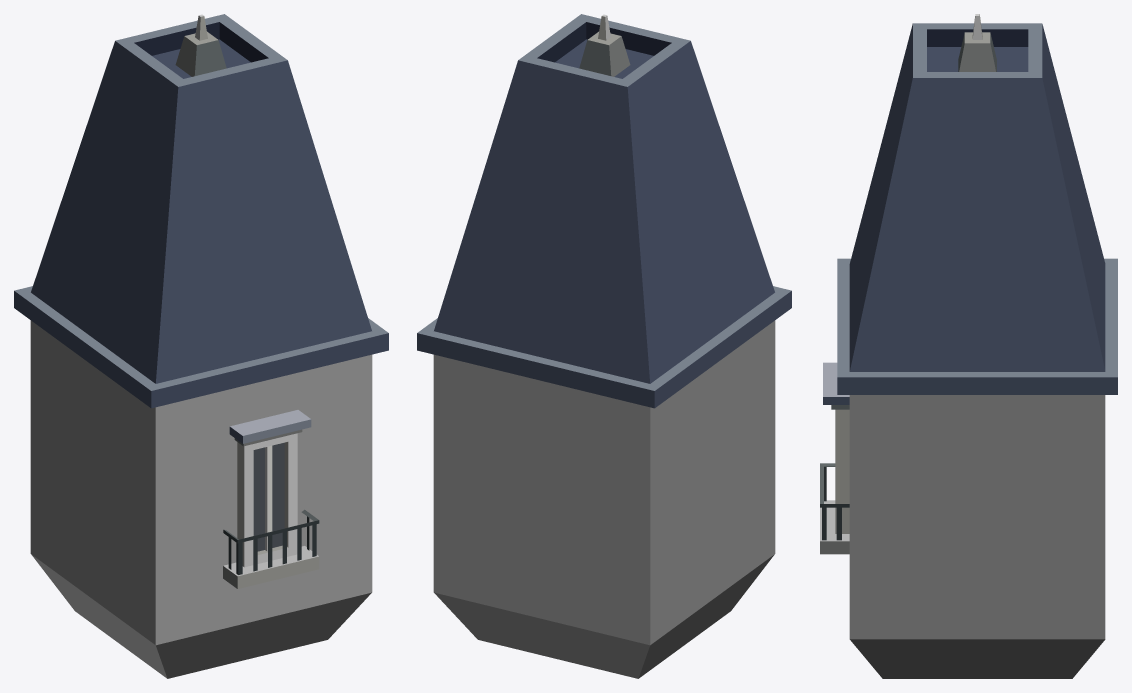
The model's file is TB_CITY_BD_Part_PT_B.FBX.
3 views of the same model, side by side, from view 1: azimuth 30°, elevation 25°; view 2: azimuth 150°, elevation 25°; view 3: azimuth 270°, elevation 25° (orthographic). The views are drawn at different scales.
Parts seen in each view (by area): view 1: TB_CITY_BD_Part_PT_B; view 2: TB_CITY_BD_Part_PT_B; view 3: TB_CITY_BD_Part_PT_B.
Part boxes in pixels (box(x1,y1,x2,y2)): TB_CITY_BD_Part_PT_B: box(14, 14, 388, 678); TB_CITY_BD_Part_PT_B: box(417, 14, 791, 678); TB_CITY_BD_Part_PT_B: box(820, 14, 1117, 678).
Bounding box in the file's own units: 5.7 × 13.98 × 6.05.
